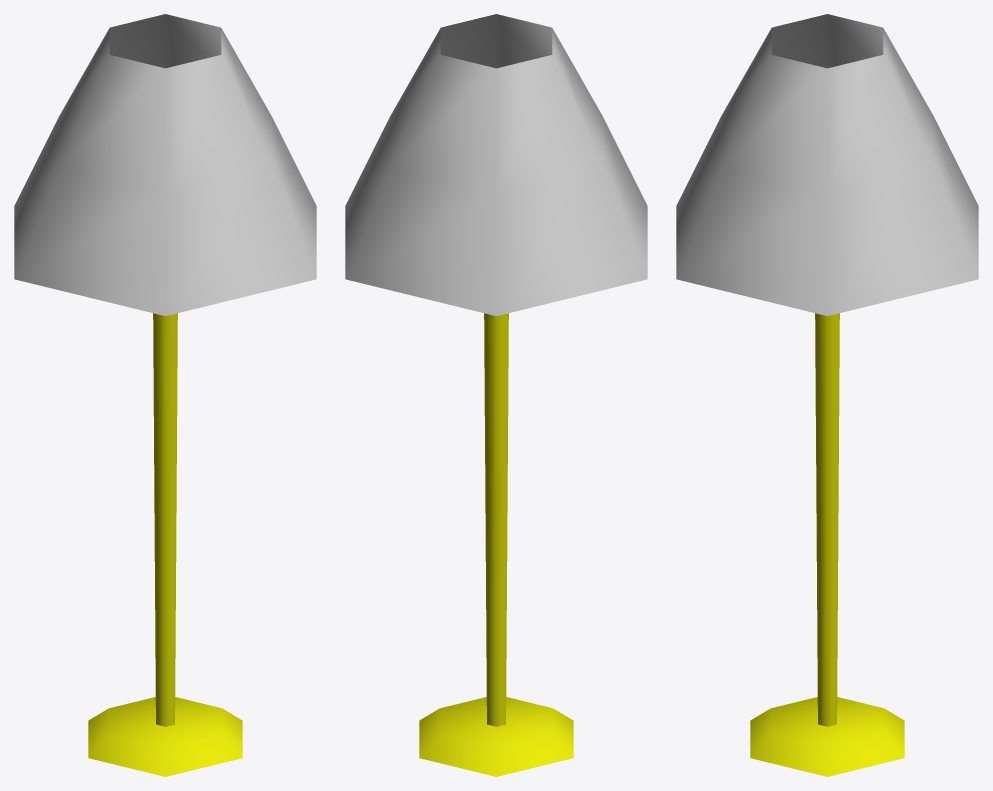
File: lampara.FBX
The picture shows the model from 3 angles, left to right: view 1: azimuth 30°, elevation 25°; view 2: azimuth 150°, elevation 25°; view 3: azimuth 270°, elevation 25°; orthographic projection.
Visible parts, largest first — view 1: lamparaPantalla_geo, lamparaPierna_geo, lamparaPie_geo; view 2: lamparaPantalla_geo, lamparaPierna_geo, lamparaPie_geo; view 3: lamparaPantalla_geo, lamparaPierna_geo, lamparaPie_geo.
Boxes of the visible parts, box(x1,y1,x2,y2) form: lamparaPantalla_geo: box(14, 14, 316, 315); lamparaPierna_geo: box(153, 313, 177, 726); lamparaPie_geo: box(88, 697, 242, 776); lamparaPantalla_geo: box(345, 14, 647, 315); lamparaPierna_geo: box(484, 313, 508, 726); lamparaPie_geo: box(419, 697, 573, 776); lamparaPantalla_geo: box(676, 14, 978, 315); lamparaPierna_geo: box(815, 313, 839, 726); lamparaPie_geo: box(750, 697, 904, 776).
Size of the model in its own units: 76.79 by 170 by 66.5.
